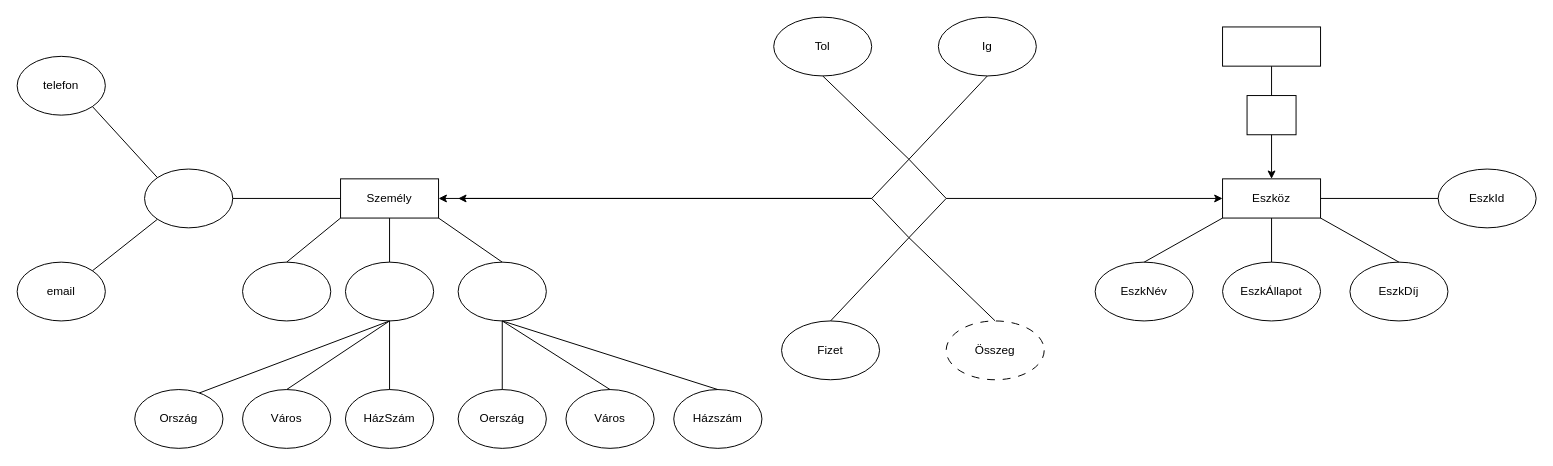
The diagram is 1553 pixels wide and 466 high, and some of its shapes have lost their labels. The shapes that lost their labels are listed below. From the top down, each one's box as (x1, y1, x2, y2) in pixels, then its label:
(1222, 26, 1321, 66): Csonakház
(1246, 95, 1296, 135): HAS_A
(144, 168, 233, 228): elérhetőség
(871, 158, 946, 238): Kölcsönzés
(242, 261, 331, 321): név
(344, 261, 434, 321): lakhely
(457, 261, 546, 321): szállításicím
